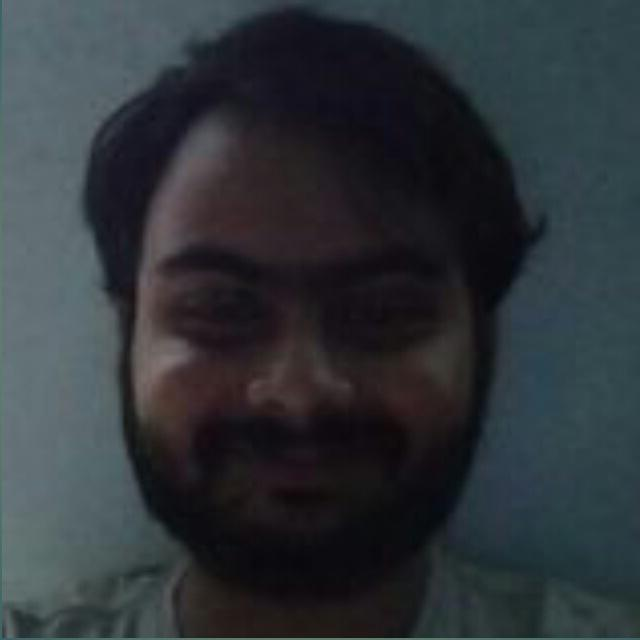Happy: (149, 125, 501, 571)
